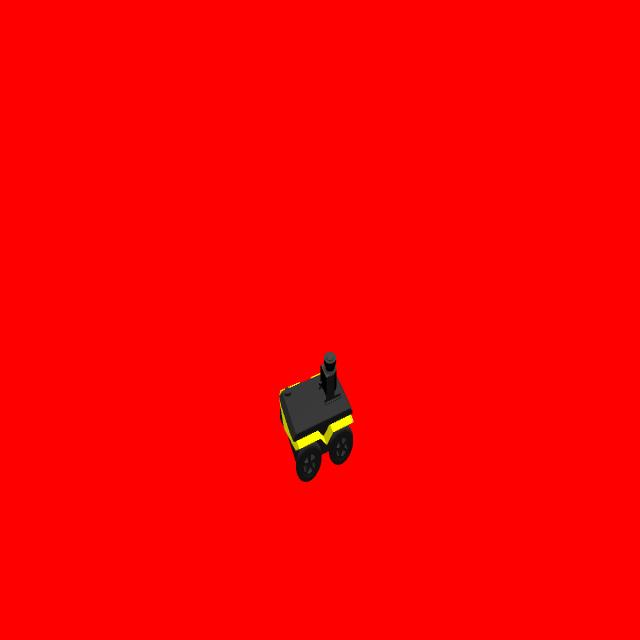jackal: (280, 350, 354, 483)
